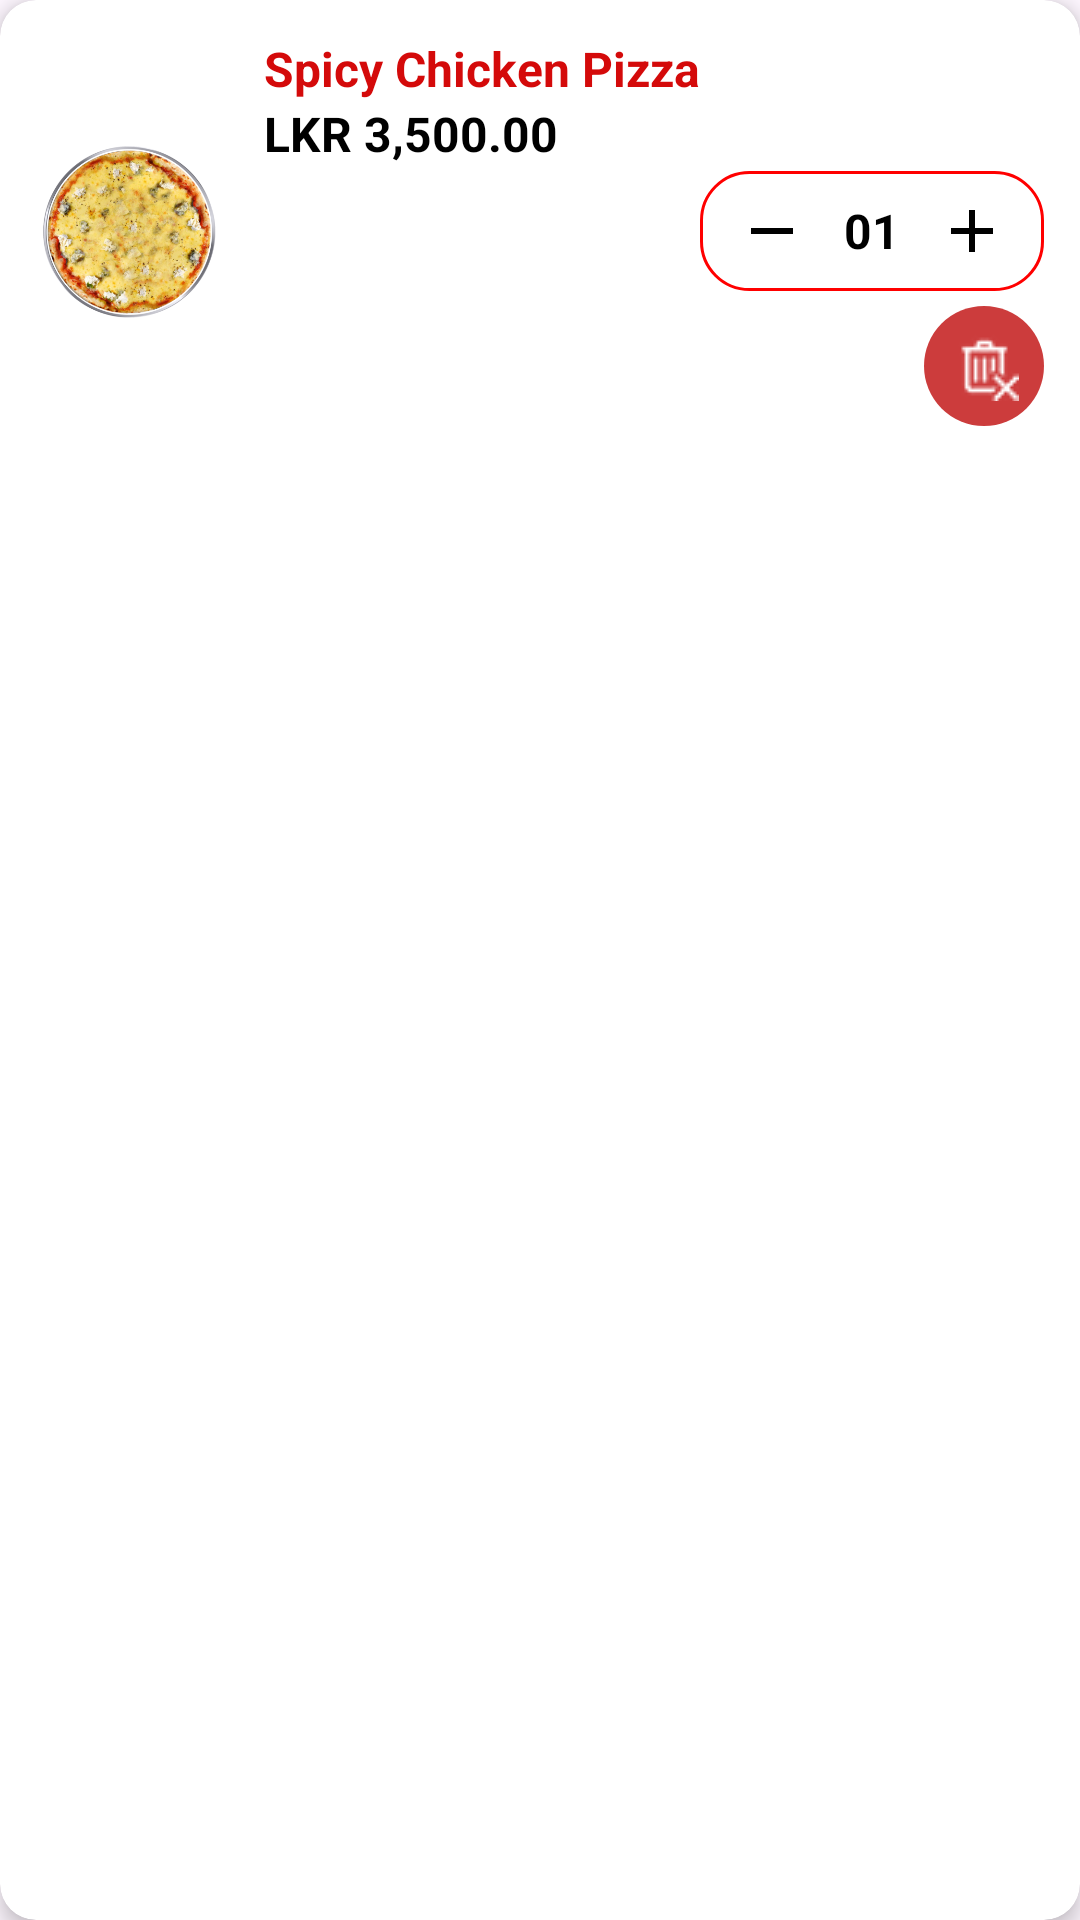

Where icons sit on this 1080*1920 app screen, as (x1, y1, x2, y2):
Delete: (924, 306, 1044, 426)
Increment: (951, 210, 993, 252)
italian cheese pizza: (43, 146, 215, 318)
